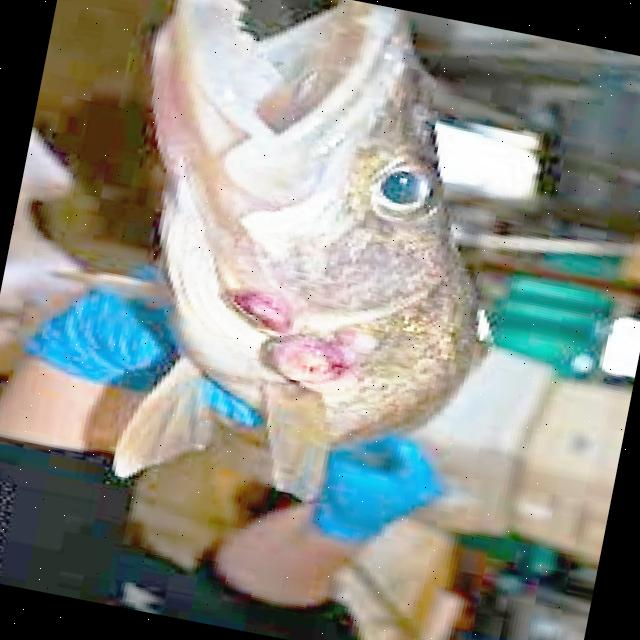Epizootic Ulcerative Syndrome -EUS-: (115, 0, 485, 499)
